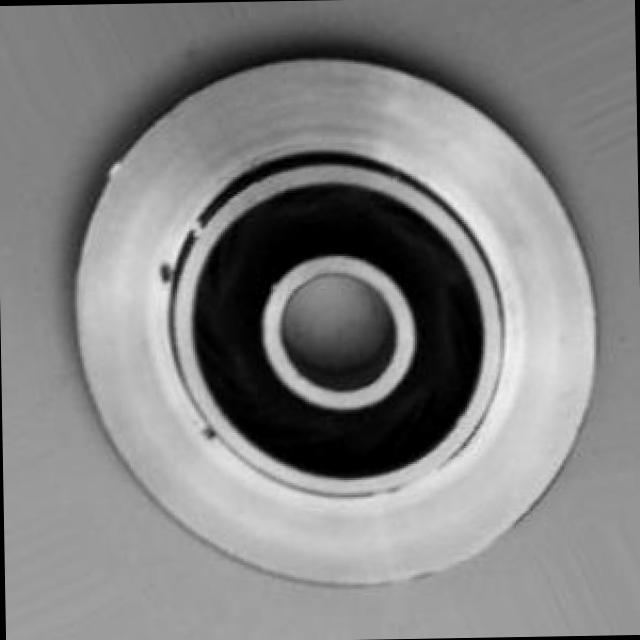Defect: (192, 416, 222, 454)
